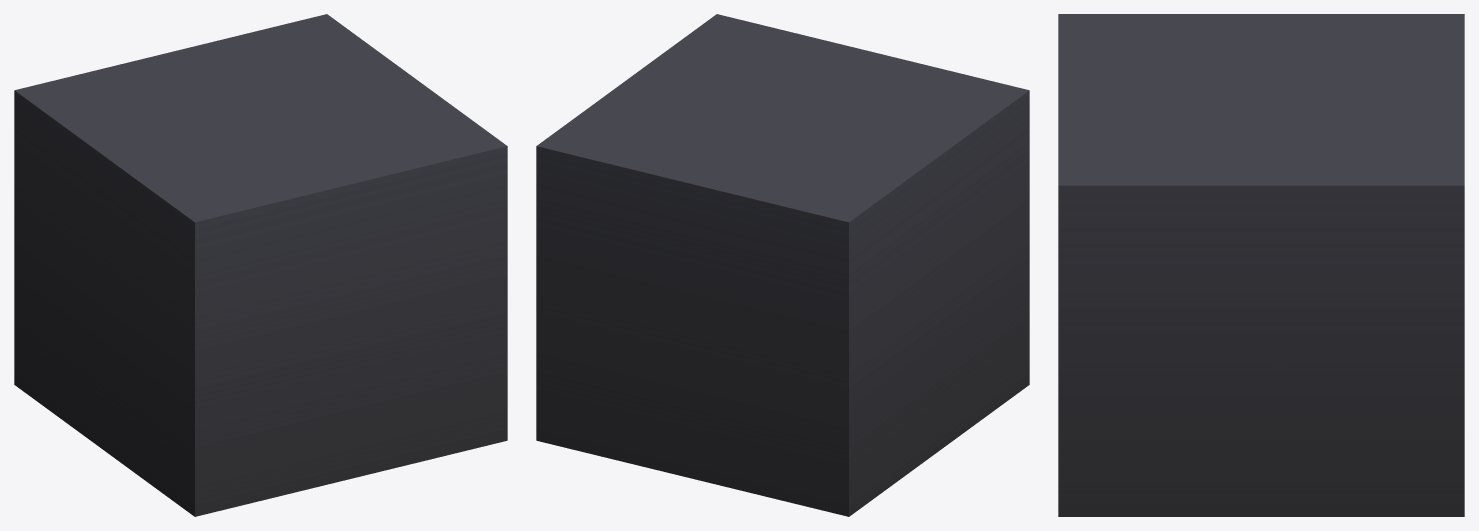
The model's file is dirt.fbx.
3 views of the same model, side by side, from view 1: azimuth 30°, elevation 25°; view 2: azimuth 150°, elevation 25°; view 3: azimuth 270°, elevation 25° (orthographic). The views are drawn at different scales.
Visible parts, largest first — view 1: dirt; view 2: dirt; view 3: dirt.
Part boxes in pixels (x1,y1,x2,y2): dirt: (14,14,507,516); dirt: (536,14,1029,516); dirt: (1058,14,1464,516).
Bounding box in the file's own units: 100 × 90 × 100.
